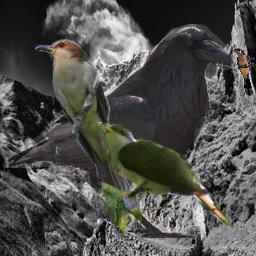Crow: (4, 24, 237, 238)
Cuckoo: (35, 39, 142, 241), (96, 122, 235, 228), (230, 48, 254, 96)
